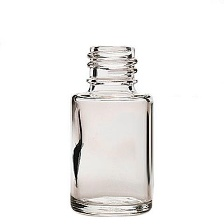bottle: (64, 36, 160, 220)
